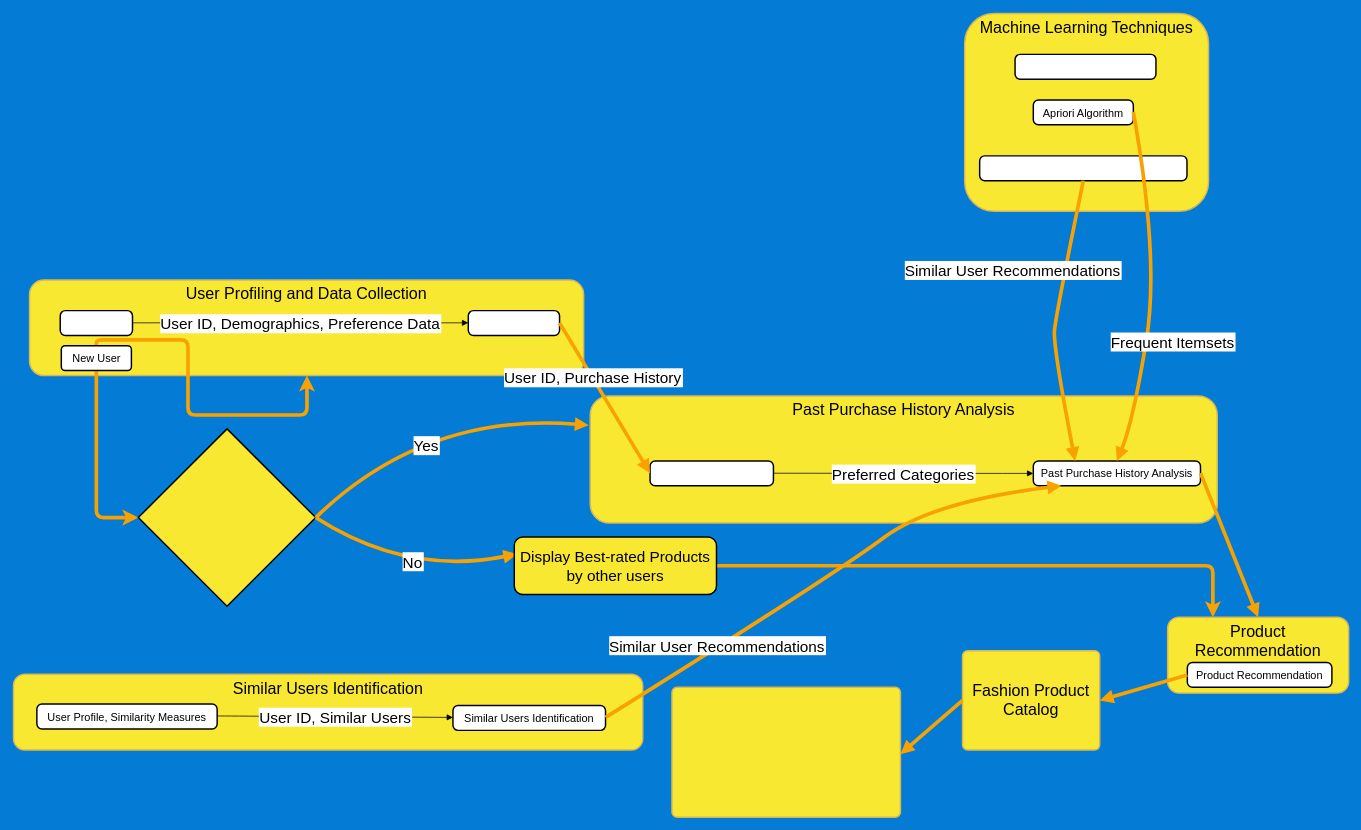
The diagram is 1361 pixels wide and 830 high, and some of its shapes have lost their labels. Each missing label, with the centre of its shape:
"Data Collection" goes at (513,323).
"FlipStore" goes at (786,752).
"Has Prior Purchase History?" goes at (226,517).
"Machine Learning Models" goes at (1085,66).
"Memory-based Collaborative Filtering" goes at (1083,168).
"Past Purchase History" goes at (711,473).
"User Profile" goes at (96,323).
